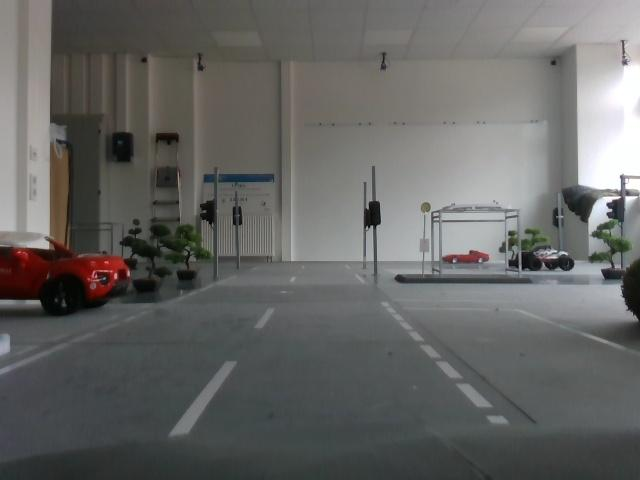car: (1, 219, 125, 324), (516, 248, 578, 275), (439, 237, 491, 269)
potted plant: (593, 225, 634, 290), (169, 225, 202, 285), (135, 230, 163, 298)
traffic light: (204, 195, 226, 230), (369, 197, 386, 229)
